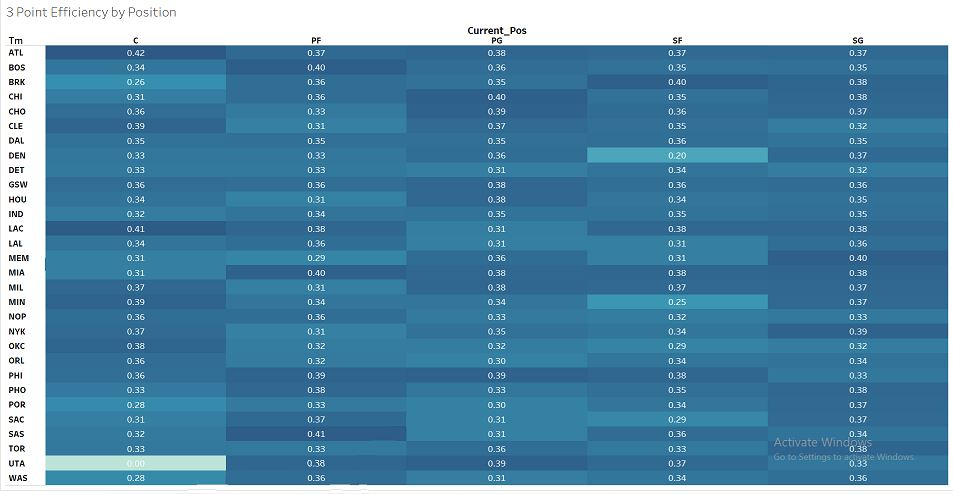

This screenshot's page, from the dashboard's own definition file:
{"tool":"tableau","page":{"name":"Picture","canvas":[1300,900],"ordinal":0},"visuals":[{"type":"image","param":"Image/perfect.JPG","box":[70,59,951,720]}]}

Visuals, with their boxes on the page's 1300x900 design canvas (x1, y1, x2, y2). These are canvas units, not pixel positions in the 953x494 screenshot, which may show the page scaled, cropped or inside an application window:
image: [left=70, top=59, right=1021, bottom=779]
